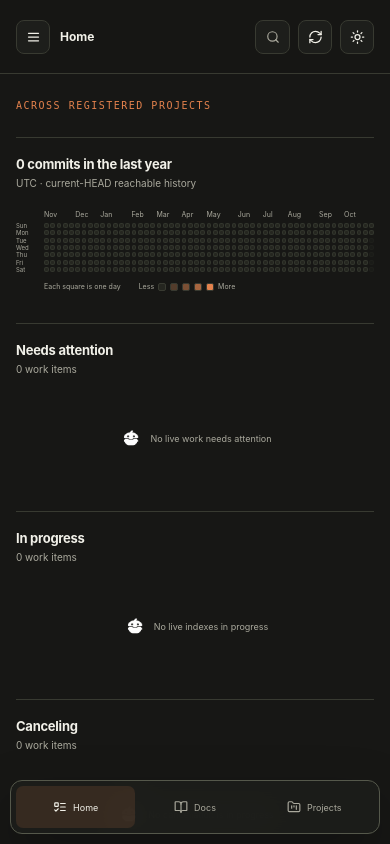
Test: Home and project navigation › opens the mobile navigation drawer at a narrow viewport
What coordinates should you click on to do the following:
click the button named "Open navigation"
I would click on:
 (33, 36)
Its box is [16,20,50,54].
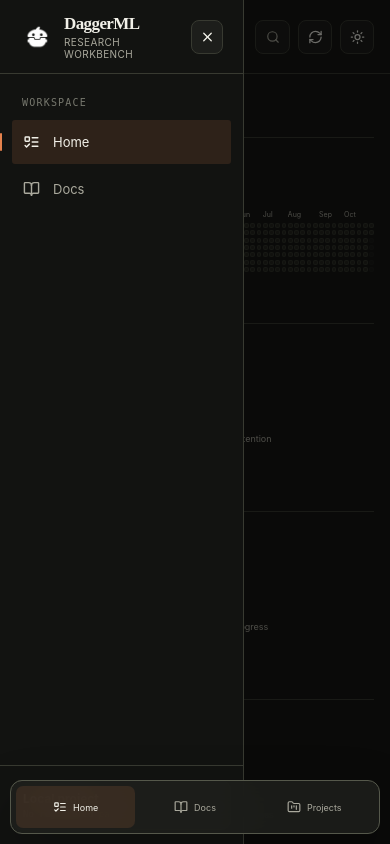
Now the 1st button named "Close navigation" is shown
